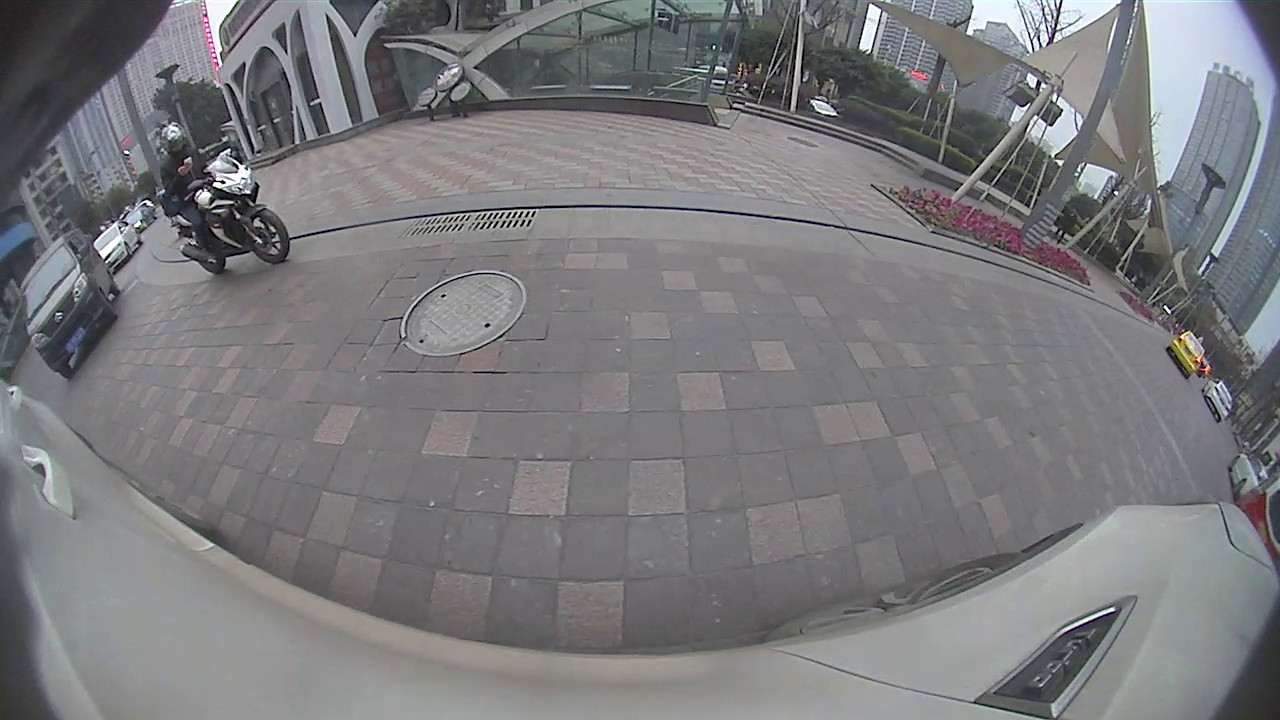car: (20, 226, 123, 378), (89, 220, 141, 273), (1165, 328, 1206, 381)
front: (243, 208, 288, 263)
rider: (157, 123, 290, 276)
